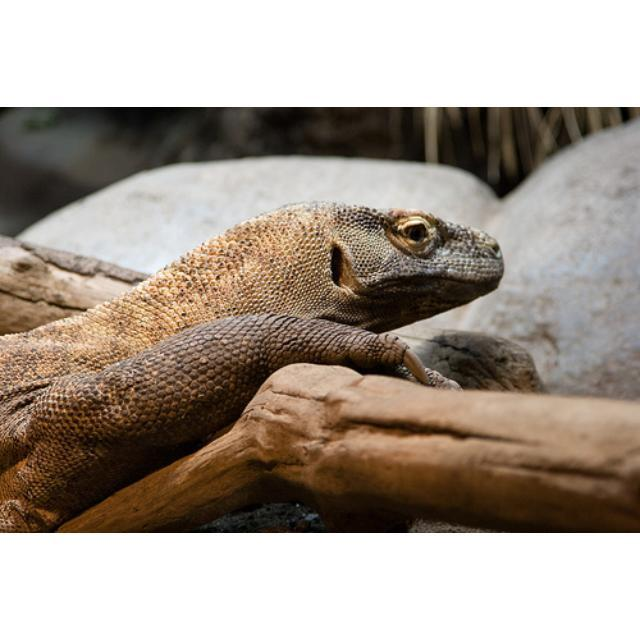KomodoDragon: (0, 200, 508, 531)
